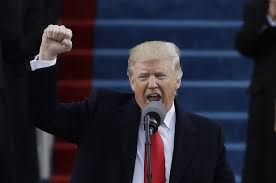fist: (39, 22, 75, 57)
